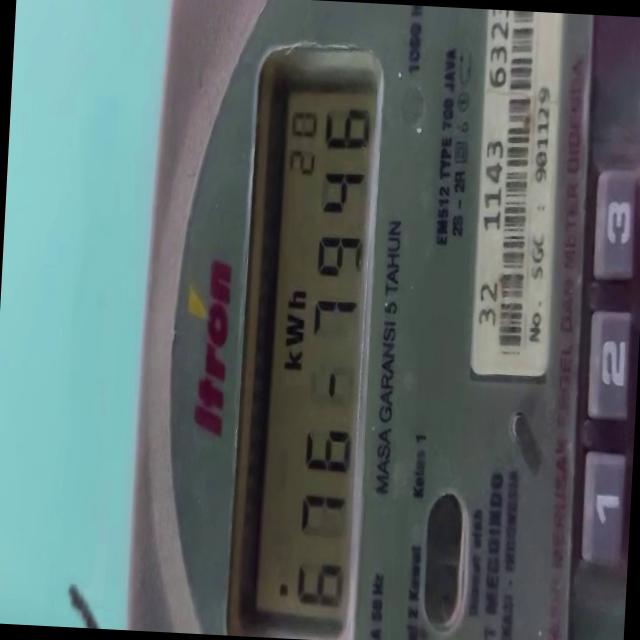LCD: (231, 51, 389, 634)
